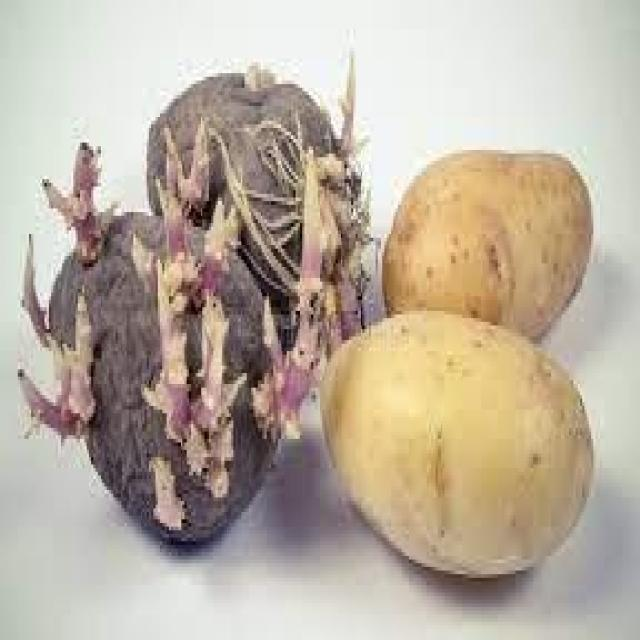potato: (322, 304, 600, 574), (380, 146, 591, 344)
